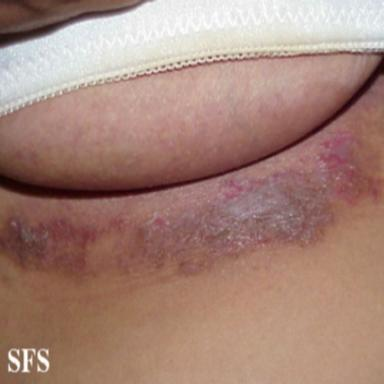Hailey-Hailey-Disease: (134, 142, 380, 272), (0, 213, 97, 270)
